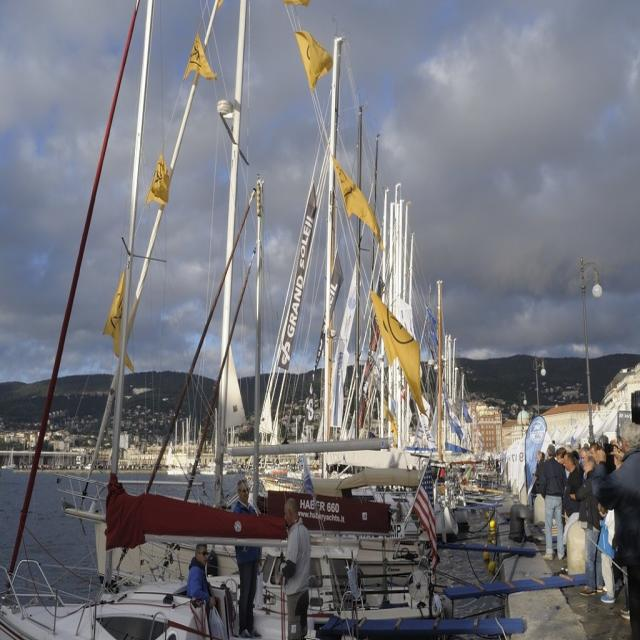Boat: (54, 21, 502, 591), (165, 406, 307, 479)
